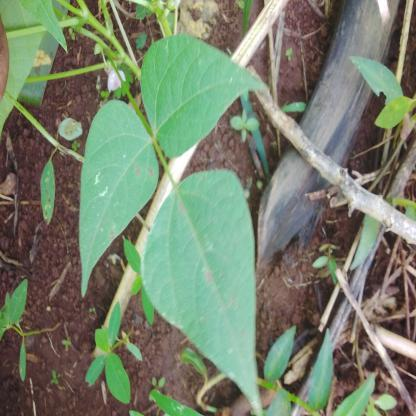Beans_Angular_LeafSpot: (140, 169, 258, 386), (80, 101, 158, 296)
